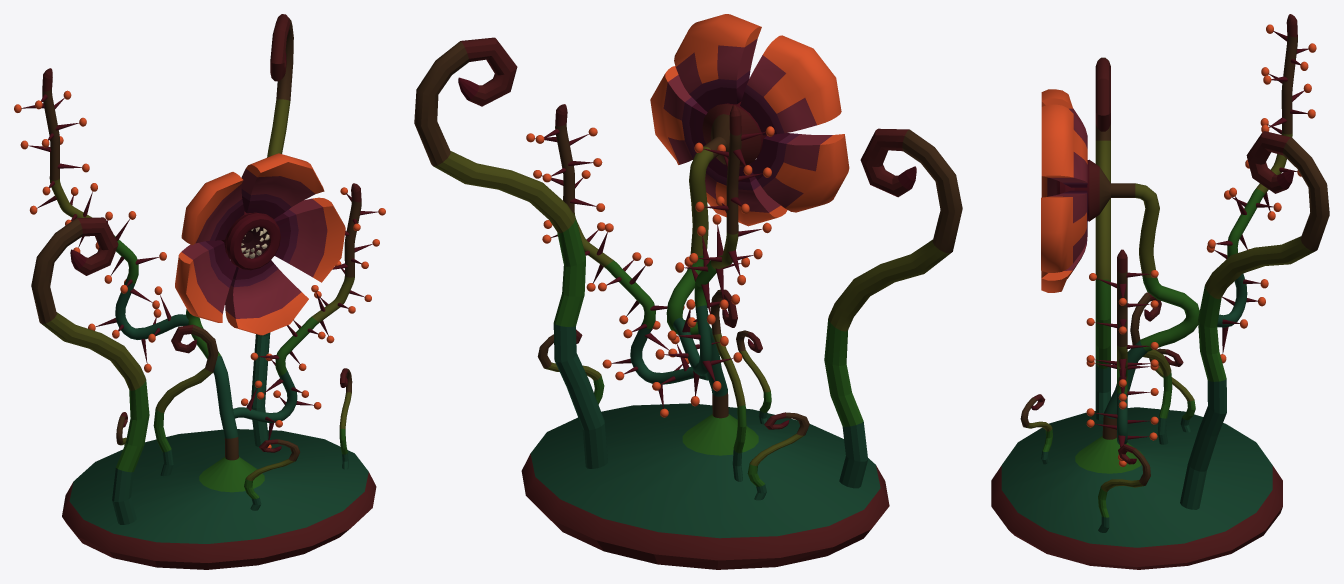
The model's file is plant_big.fbx.
3 renders of one model, left to right at view 1: azimuth 30°, elevation 25°; view 2: azimuth 150°, elevation 25°; view 3: azimuth 270°, elevation 25°, orthographic. The views are drawn at different scales.
Visible parts, largest first — view 1: middle; view 2: middle; view 3: middle.
Part boxes in pixels (bbox=[...]): middle: bbox=[14, 14, 385, 569]; middle: bbox=[414, 14, 962, 569]; middle: bbox=[991, 14, 1329, 569].
Size of the model in its own units: 530 by 576 by 403.
